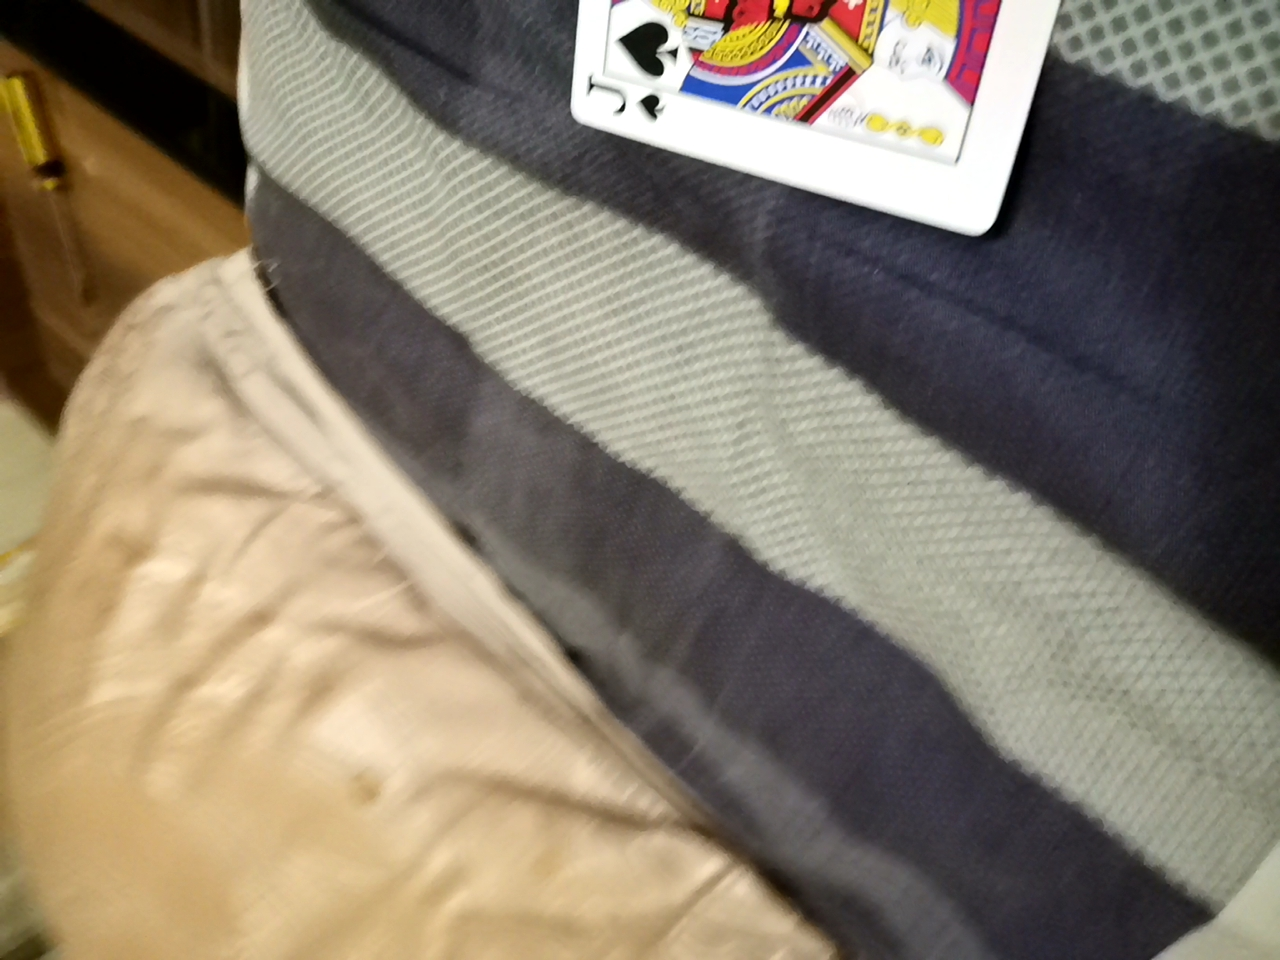ht j: (538, 2, 1078, 214)
